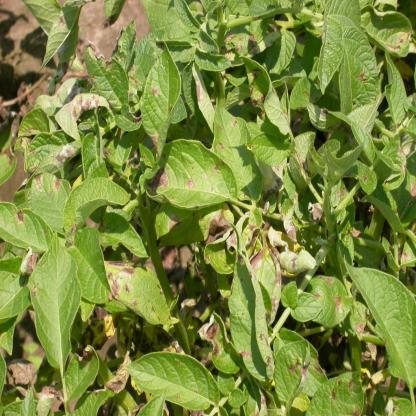potato leaf late blight: (27, 231, 82, 371), (225, 234, 275, 381), (91, 257, 180, 329), (241, 243, 283, 329), (195, 311, 248, 376), (26, 132, 78, 180), (54, 90, 116, 126)
